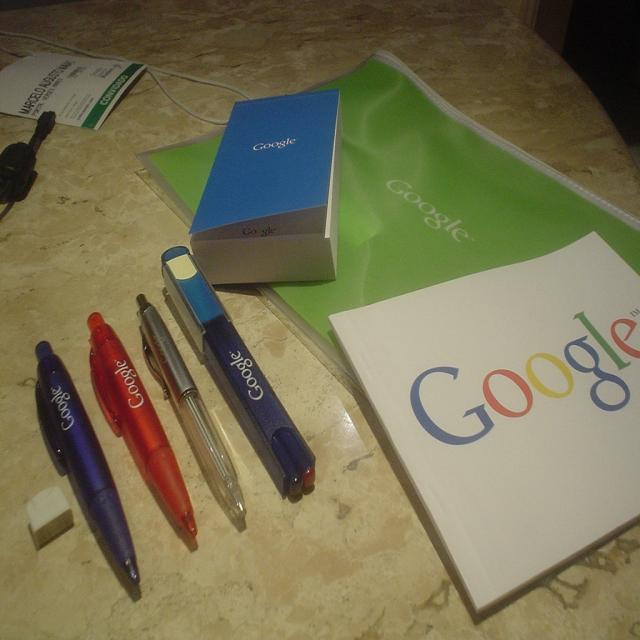google: (406, 303, 640, 456), (386, 173, 476, 256), (229, 346, 266, 405), (114, 355, 147, 415), (48, 384, 78, 435), (254, 131, 299, 163)
